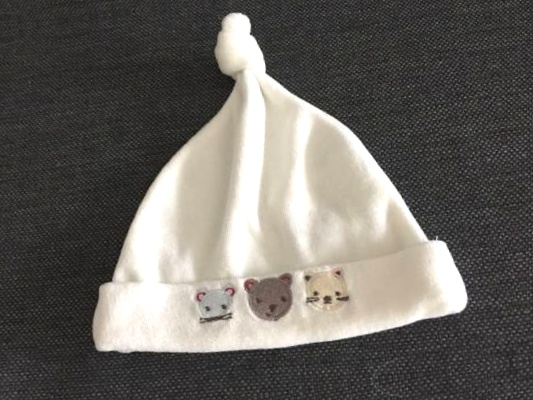Hat: (50, 0, 489, 381), (525, 0, 533, 318)
